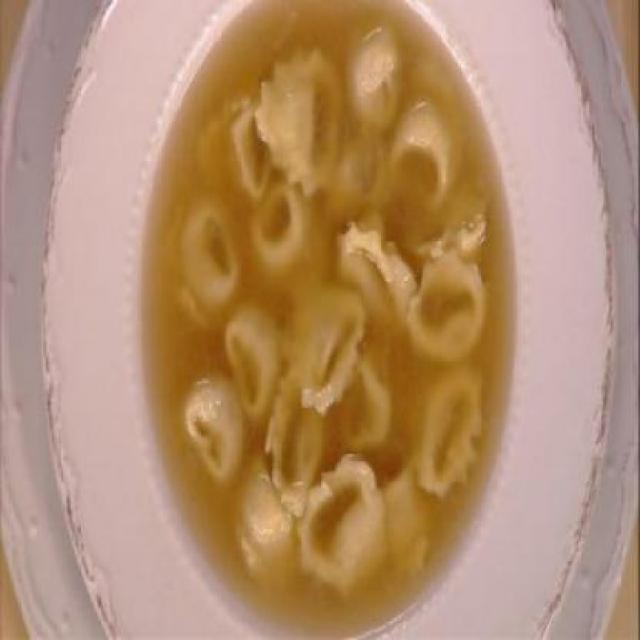Tortellini in broth: (176, 29, 493, 596)
